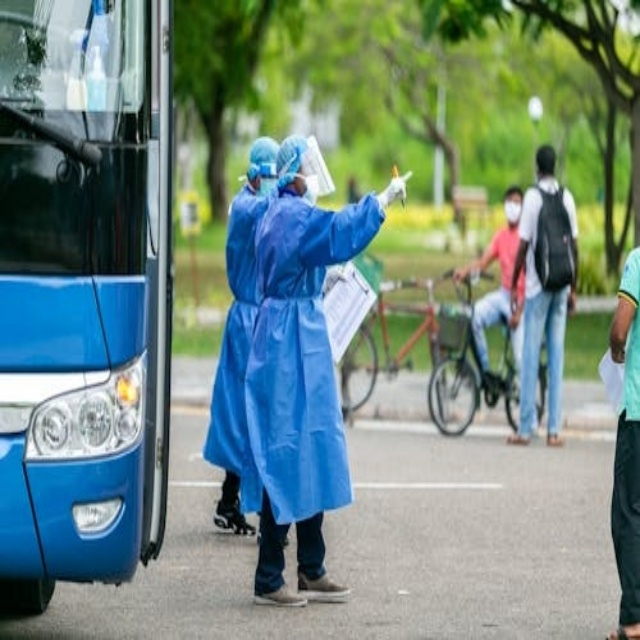Guantes: (381, 171, 412, 211), (323, 263, 349, 296)
Mascara: (289, 169, 325, 206), (255, 173, 278, 200)
